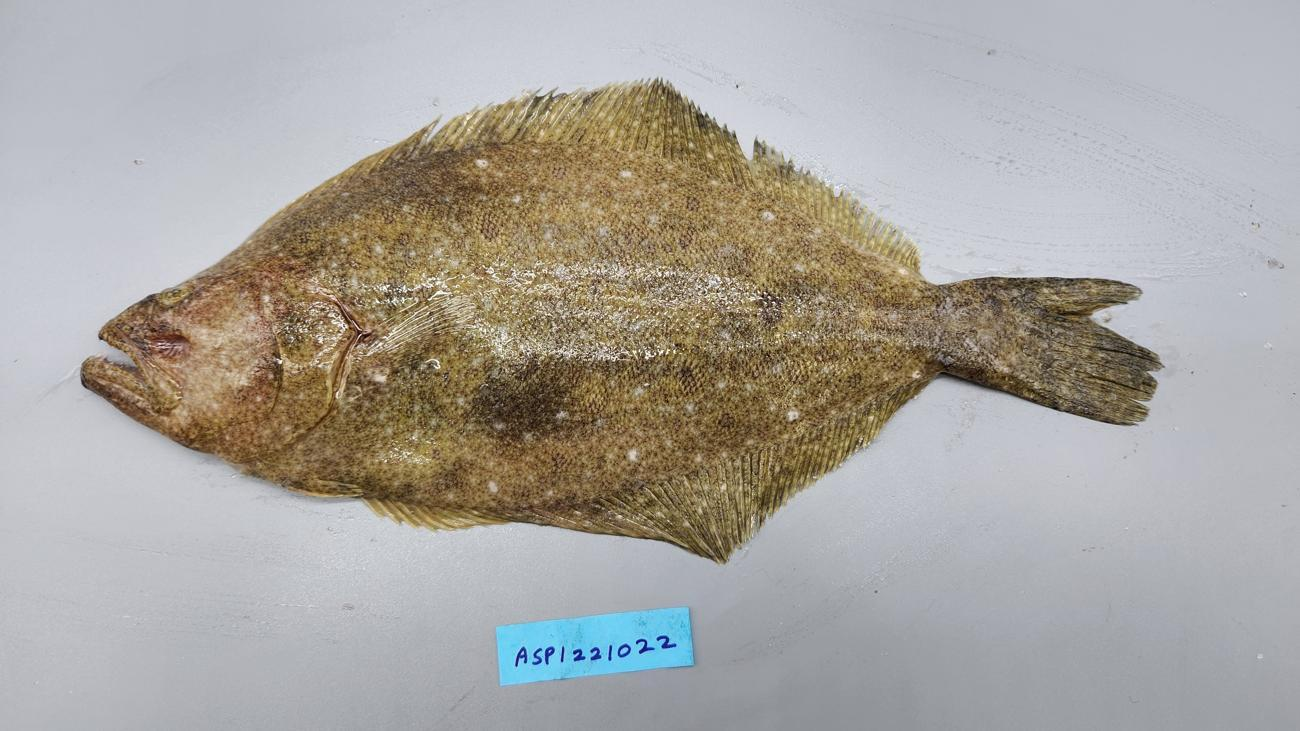SPDYH: (934, 277, 1009, 383)
SPOUY: (73, 71, 1168, 570)
